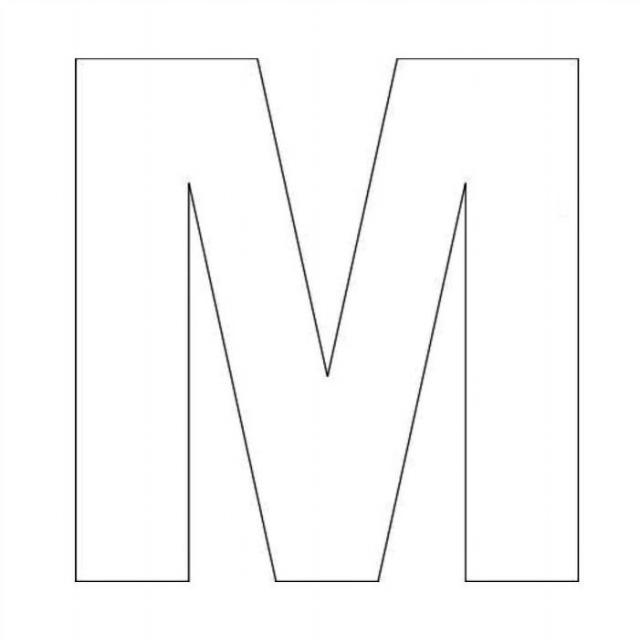M: (35, 48, 596, 595)
